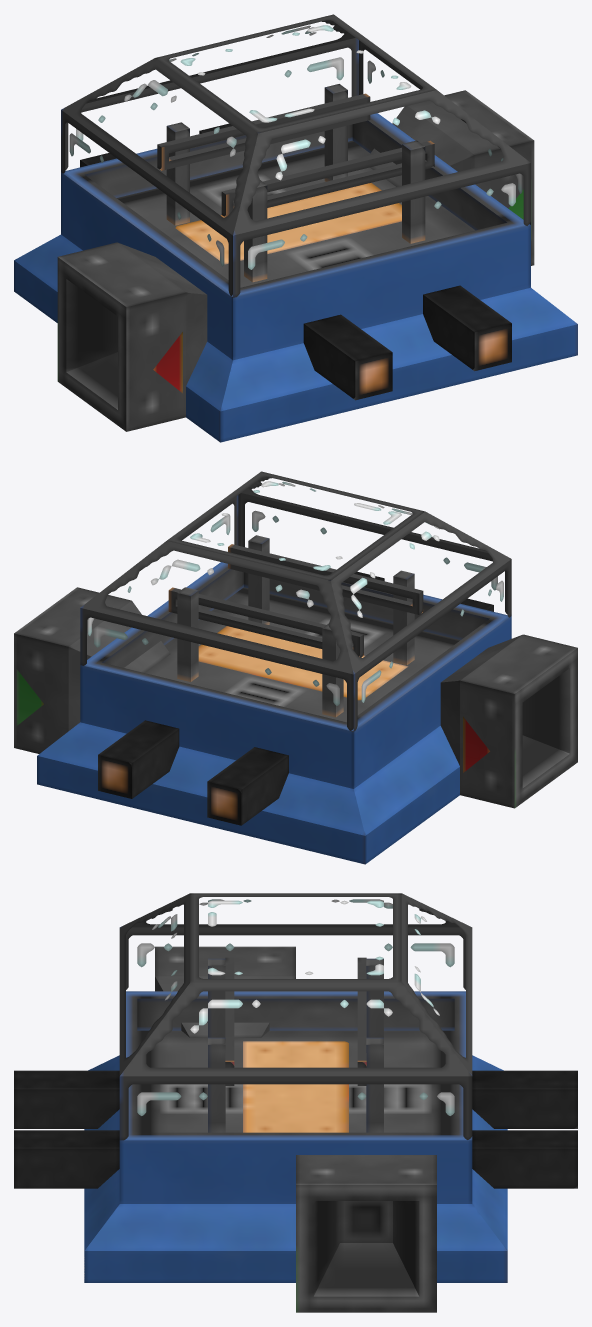
File: machine_assembler.obj
3 renders of one model, top to bottom at view 1: azimuth 30°, elevation 25°; view 2: azimuth 150°, elevation 25°; view 3: azimuth 270°, elevation 25°, orthographic. The views are drawn at different scales.
Parts seen in each view (by area): view 1: Cube_Cube.001; view 2: Cube_Cube.001; view 3: Cube_Cube.001.
Boxes of the visible parts, x1,y1,x2,y2 form: Cube_Cube.001: (14, 14, 577, 442); Cube_Cube.001: (14, 471, 577, 864); Cube_Cube.001: (14, 893, 577, 1312).
Size of the model in its own units: 4 by 2 by 4.
